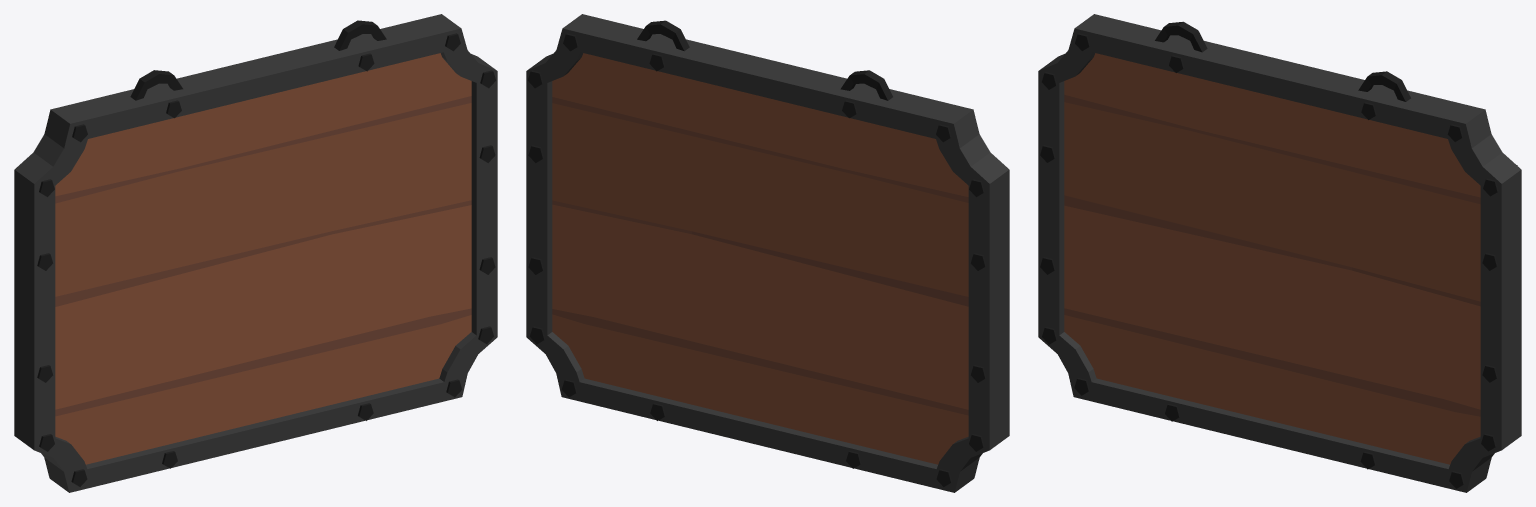
The model's file is signboard_for pole.fbx.
3 views of the same model, side by side, from view 1: azimuth 30°, elevation 25°; view 2: azimuth 150°, elevation 25°; view 3: azimuth 330°, elevation 25° (orthographic).
Parts seen in each view (by area): view 1: signboard; view 2: signboard; view 3: signboard.
Boxes of the visible parts, box(x1,y1,x2,y2) form: signboard: box(14, 14, 497, 492); signboard: box(526, 14, 1009, 492); signboard: box(1038, 14, 1521, 492).
Size of the model in its own units: 94.26 by 75.79 by 8.01.
